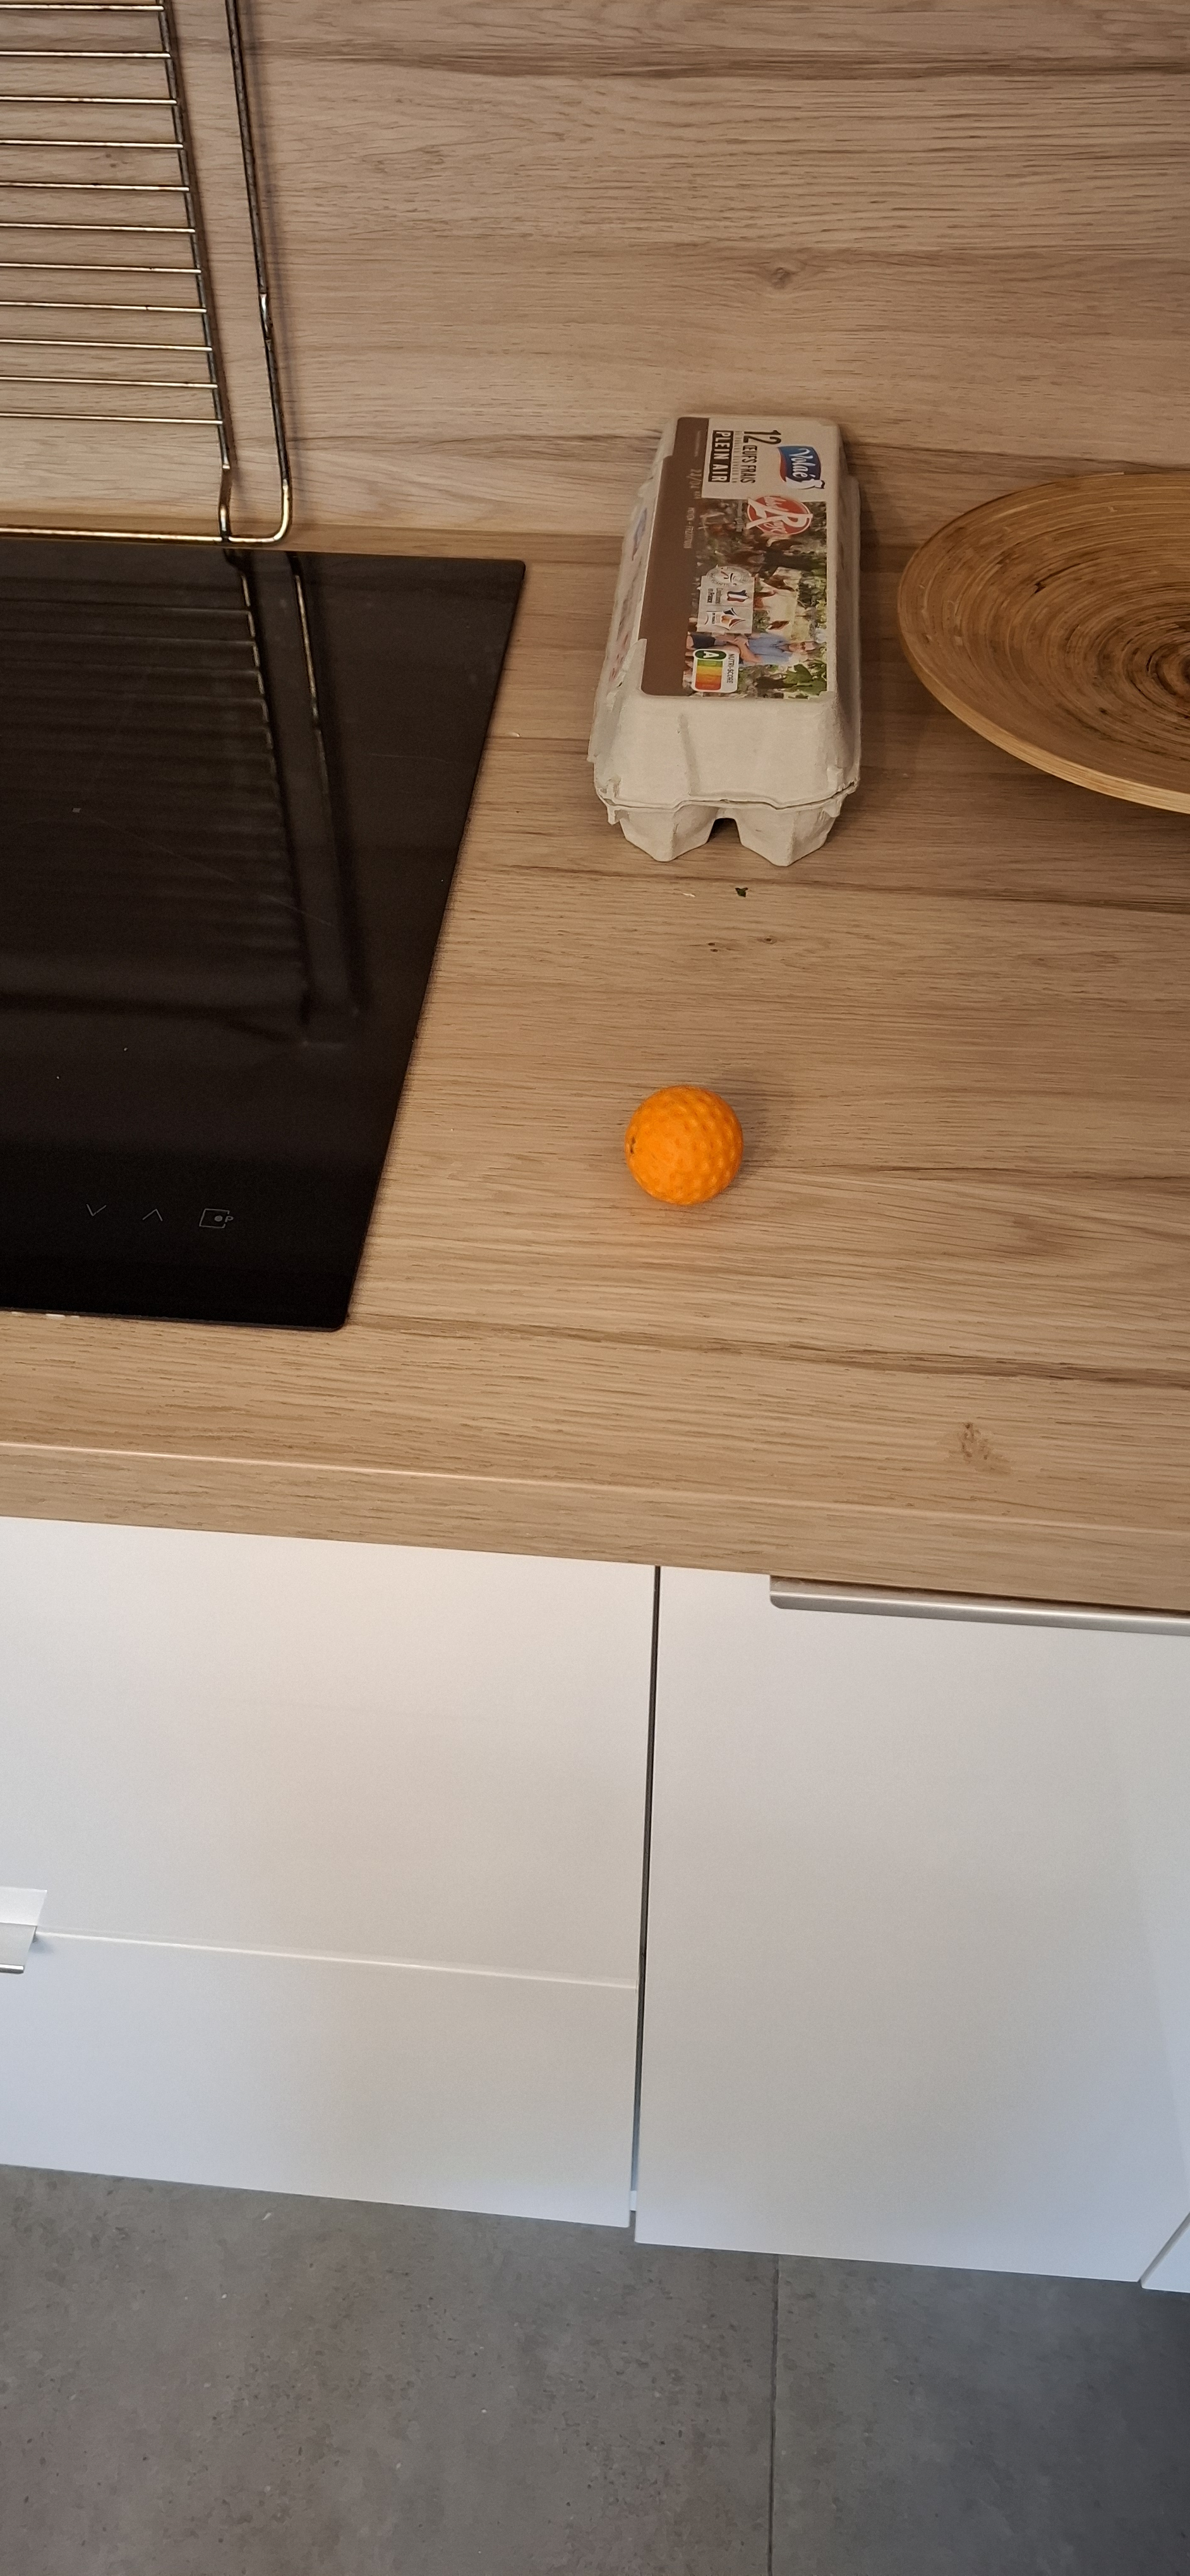ball: (501, 968, 556, 1222)
